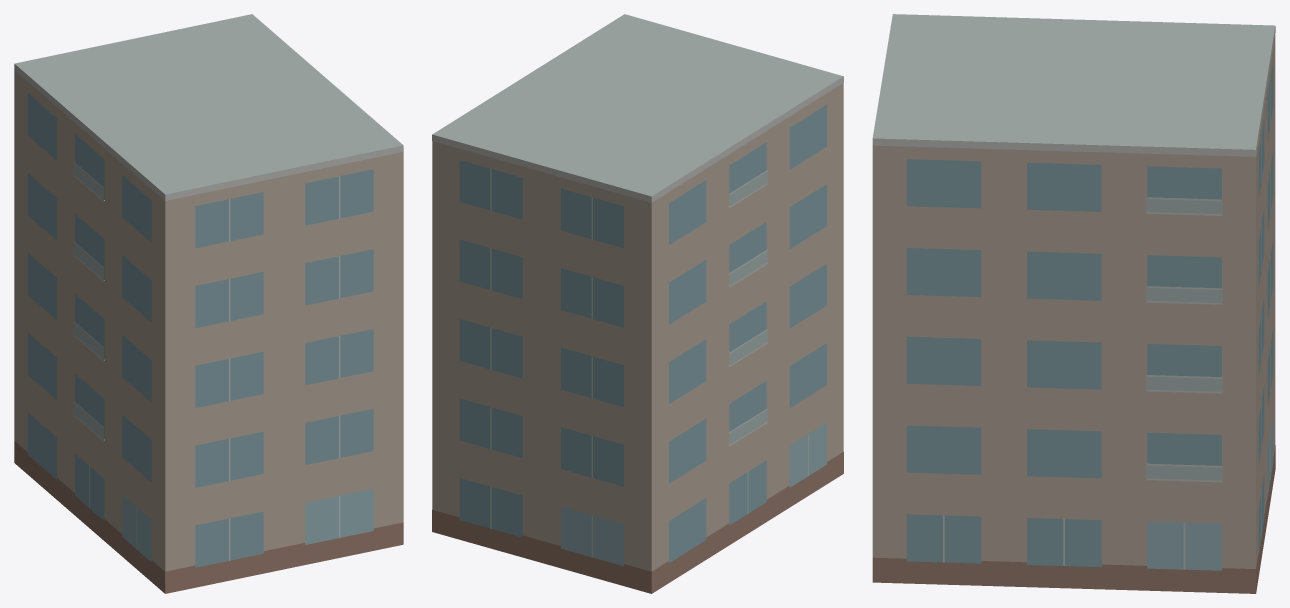
The model's file is survey-upis-32766473.glb.
3 views of the same model, side by side, from view 1: azimuth 30°, elevation 25°; view 2: azimuth 150°, elevation 25°; view 3: azimuth 270°, elevation 25° (orthographic). The views are drawn at different scales.
Visible parts, largest first — view 1: survey-upis-32766473.tmp; view 2: survey-upis-32766473.tmp; view 3: survey-upis-32766473.tmp.
Part boxes in pixels (bbox=[...]): survey-upis-32766473.tmp: bbox=[14, 14, 403, 593]; survey-upis-32766473.tmp: bbox=[432, 14, 843, 593]; survey-upis-32766473.tmp: bbox=[872, 14, 1275, 593].
Size of the model in its own units: 10.01 by 15.25 by 12.55.
